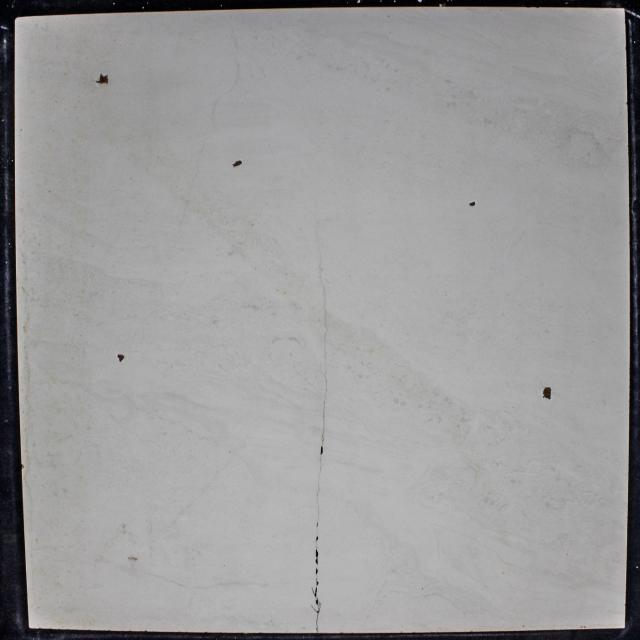hole: (540, 384, 554, 400), (95, 72, 109, 85), (231, 158, 243, 168), (116, 354, 126, 364), (469, 201, 475, 207)
line: (317, 260, 329, 369), (312, 520, 322, 632), (316, 457, 325, 517), (321, 372, 328, 445), (319, 446, 325, 456)
